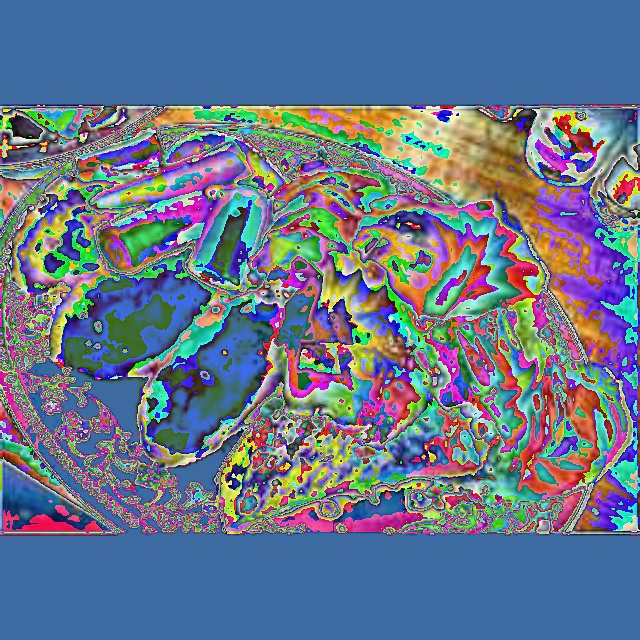background: (5, 120, 632, 532)
